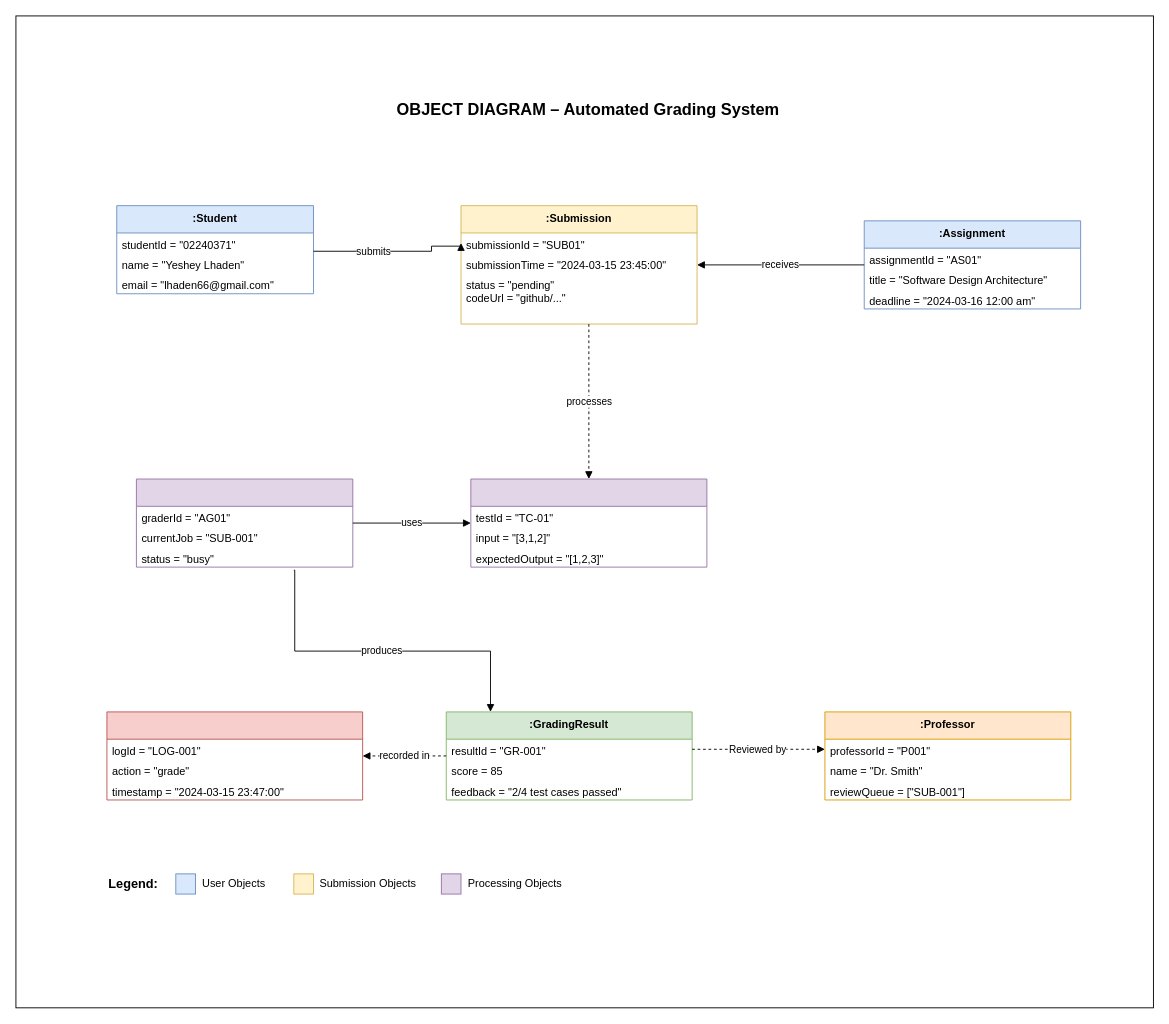
Image size: 1169x1024. Some labels were removed from this diagram. Here are the shapes that lost their labels. From the top down, the box of each, then its label:
(135, 478, 353, 567): :AutoGrader
(470, 478, 707, 567): :TestCase
(106, 711, 363, 800): :AuditLog
